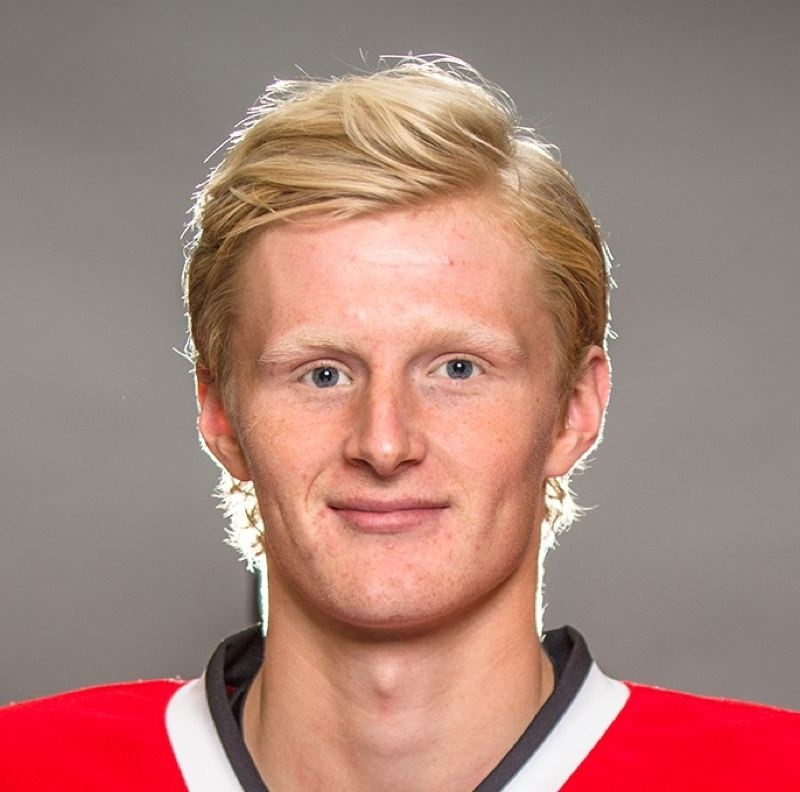face_no_mask: (180, 55, 626, 630)
